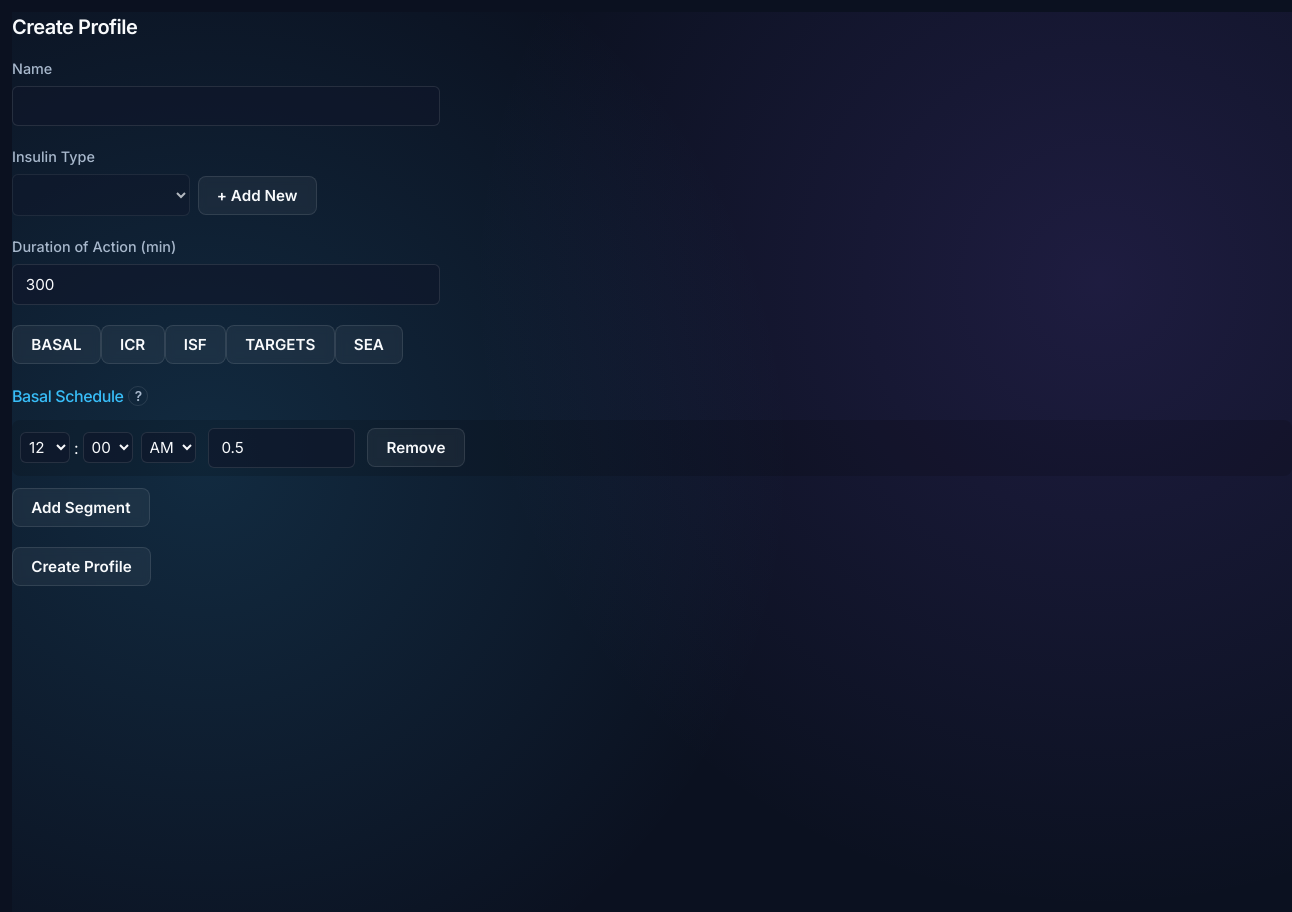
Scenario: ProfileEditor › clicking ICR tab shows Add ICR Segment button
Click the button "ICR": (133, 344) left=101, top=325, right=164, bottom=364
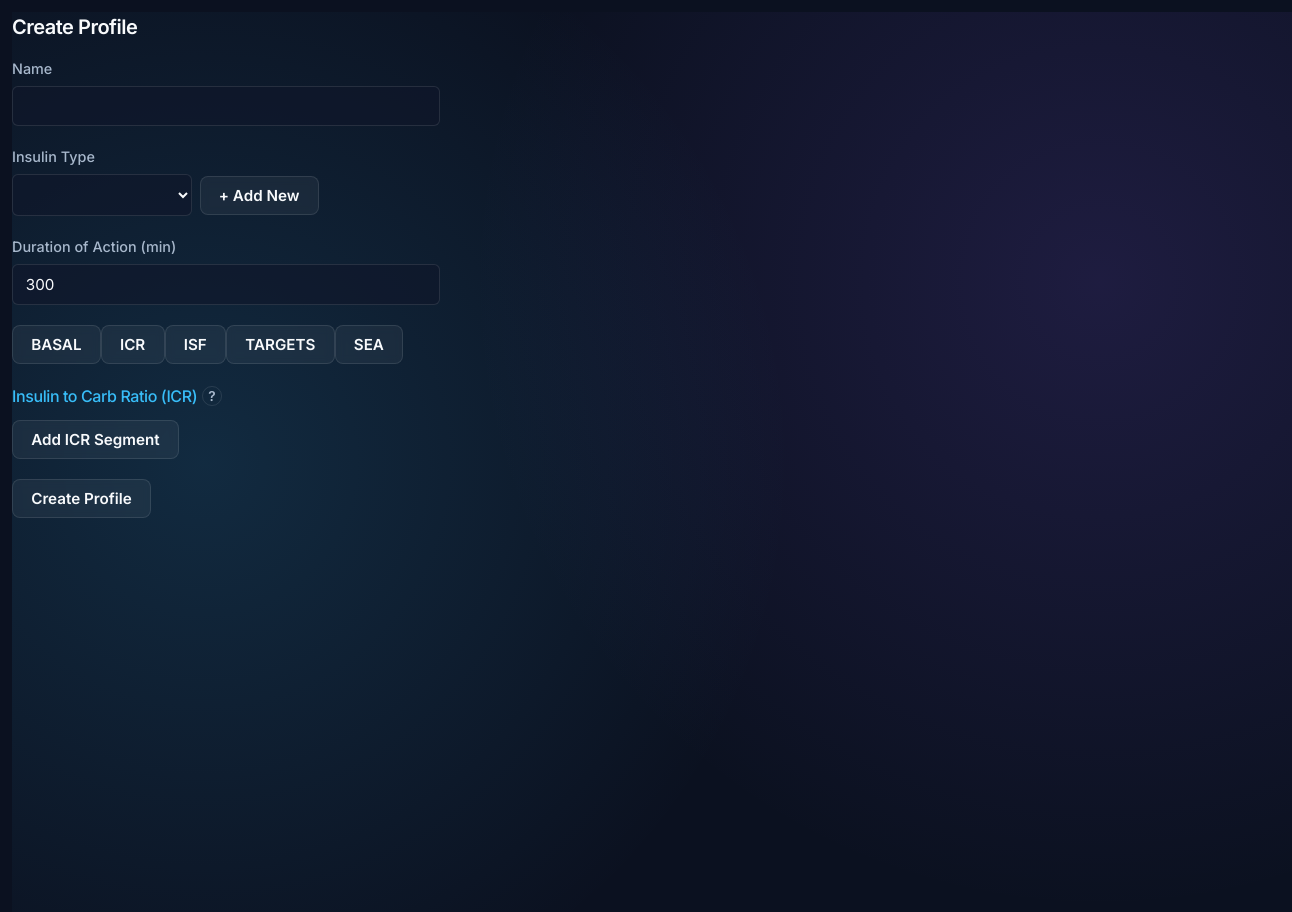
Expected: the button "Add ICR Segment" is shown, left=12, top=420, right=179, bottom=459
